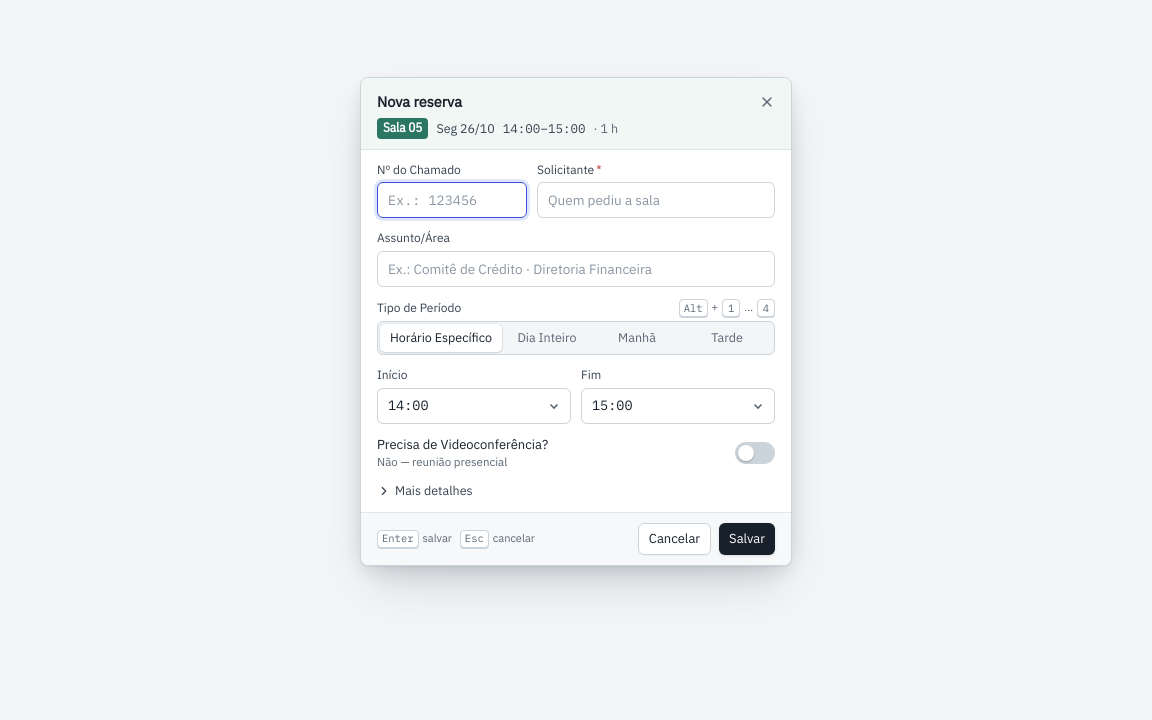
Test: BookingComposer (modal rápido) › início/fim usam passos de slot e mantêm a duração
Select "16:30" in the dropdown labelled "Início". click: (474, 406)
box: [377,388,571,424]
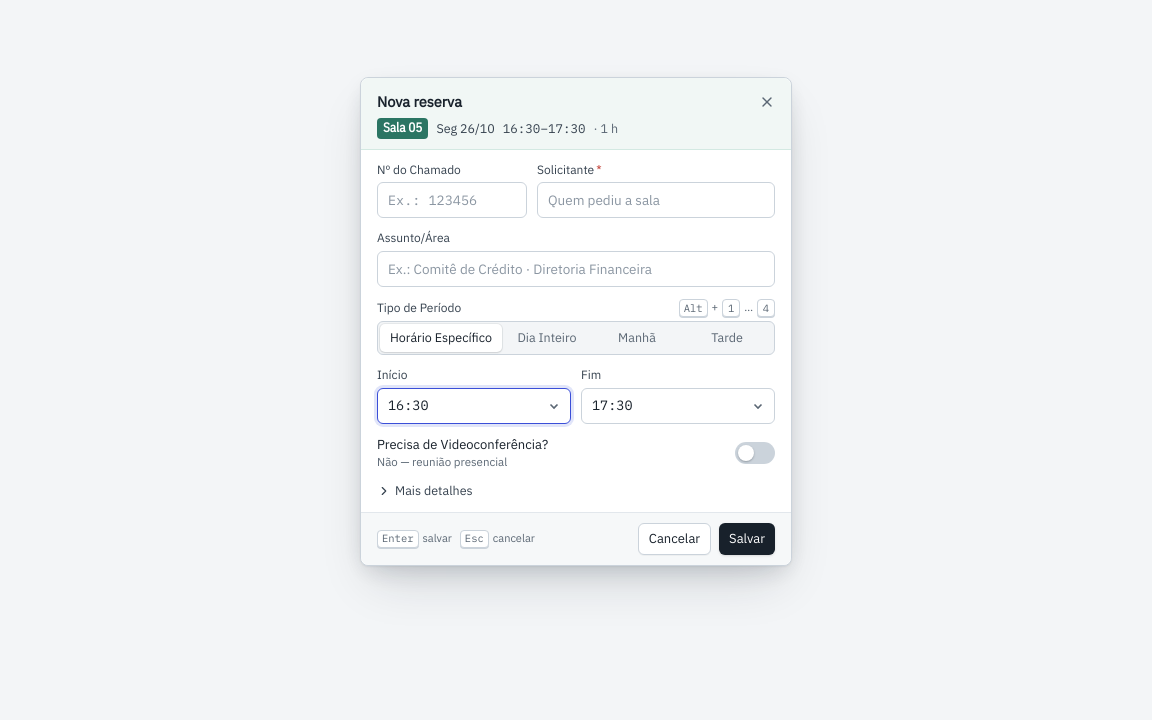
Check: the dropdown labelled "Fim" shows "17:30", box [581,388,775,424]
